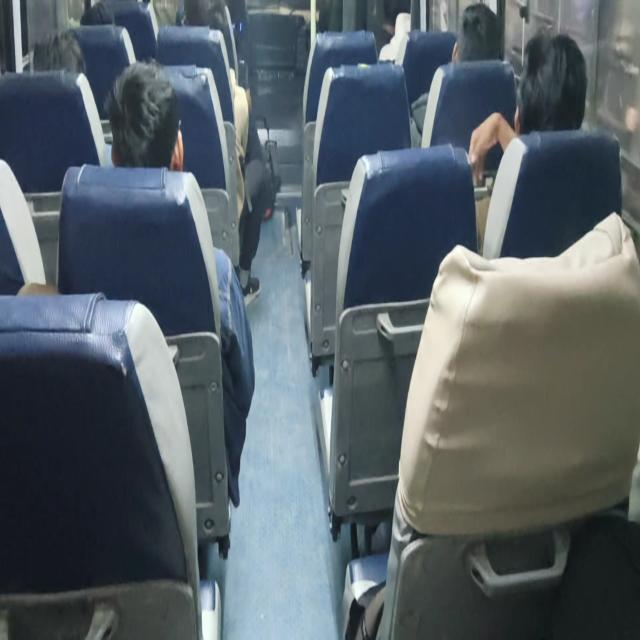person: (516, 40, 586, 150), (112, 78, 188, 171), (454, 8, 498, 62), (43, 36, 83, 86)
